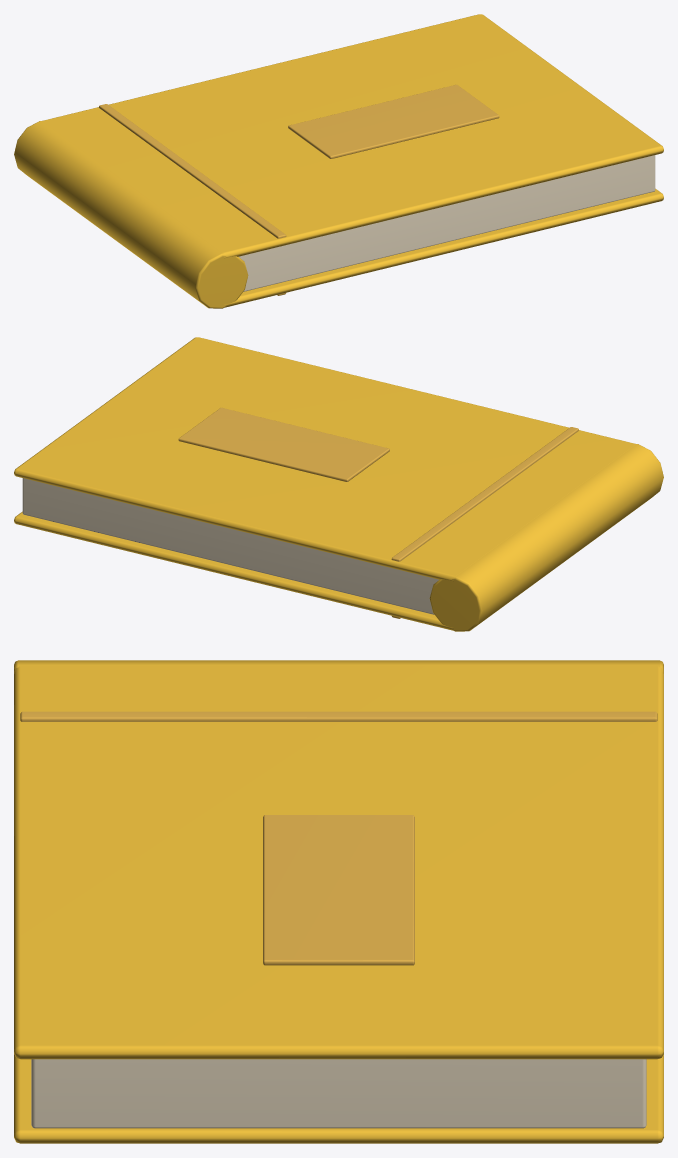
File: toy_book_yellow.glb
3 views of the same model, one above another, from view 1: azimuth 30°, elevation 25°; view 2: azimuth 150°, elevation 25°; view 3: azimuth 270°, elevation 25° (orthographic). The views are drawn at different scales.
Parts seen in each view (by area): view 1: toy_book_yellow; view 2: toy_book_yellow; view 3: toy_book_yellow.
Boxes of the visible parts, x1=… form: toy_book_yellow: x1=14, y1=14, x2=663, y2=308; toy_book_yellow: x1=14, y1=337, x2=663, y2=631; toy_book_yellow: x1=14, y1=660, x2=663, y2=1143.
Size of the model in its own units: 4.43 by 0.545 by 3.
